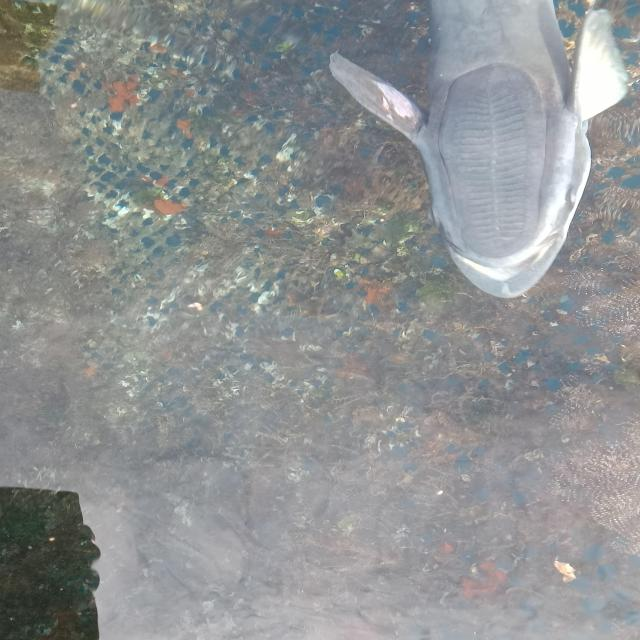ikan: (326, 1, 630, 300)
